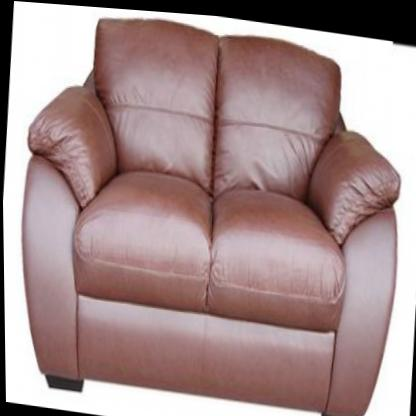Sofa: (8, 0, 415, 416)
